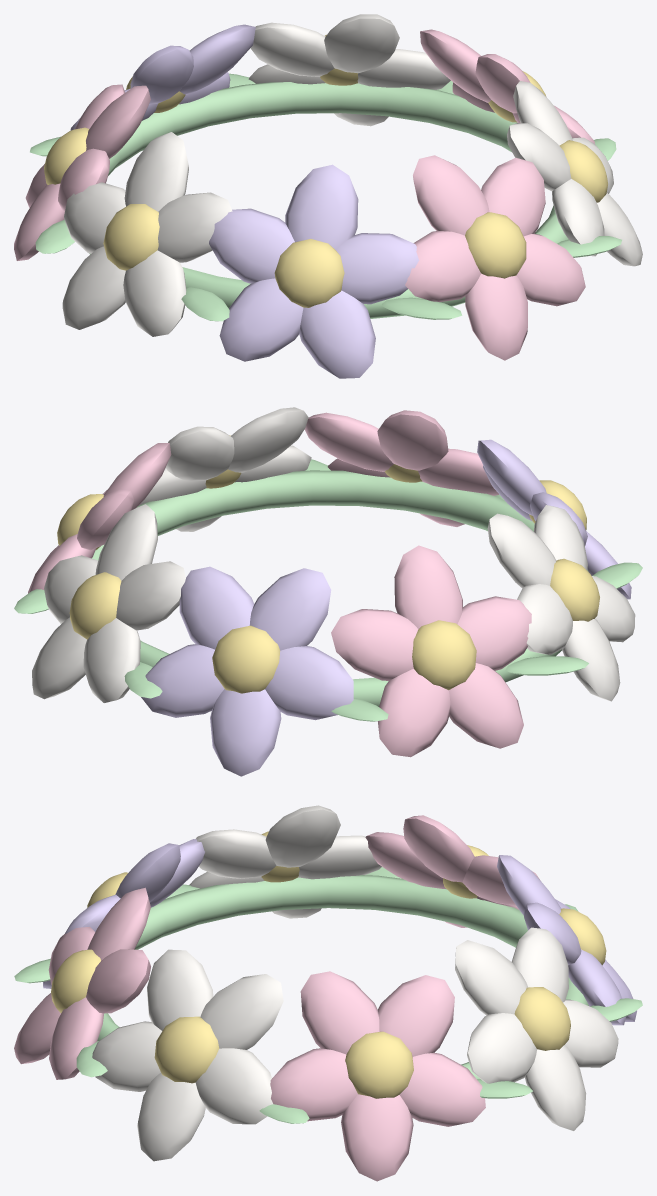
The model's file is Acc_FlowerCrown.fbx.
3 renders of one model, top to bottom at view 1: azimuth 30°, elevation 25°; view 2: azimuth 150°, elevation 25°; view 3: azimuth 270°, elevation 25°, orthographic.
Visible parts, largest first — view 1: Acc_FlowerCrown; view 2: Acc_FlowerCrown; view 3: Acc_FlowerCrown.
Boxes of the visible parts, box(x1,y1,x2,y2) form: Acc_FlowerCrown: box(14, 14, 642, 378); Acc_FlowerCrown: box(14, 407, 642, 776); Acc_FlowerCrown: box(14, 805, 642, 1181).
Size of the model in its own units: 0.1433 by 0.042 by 0.1433.
